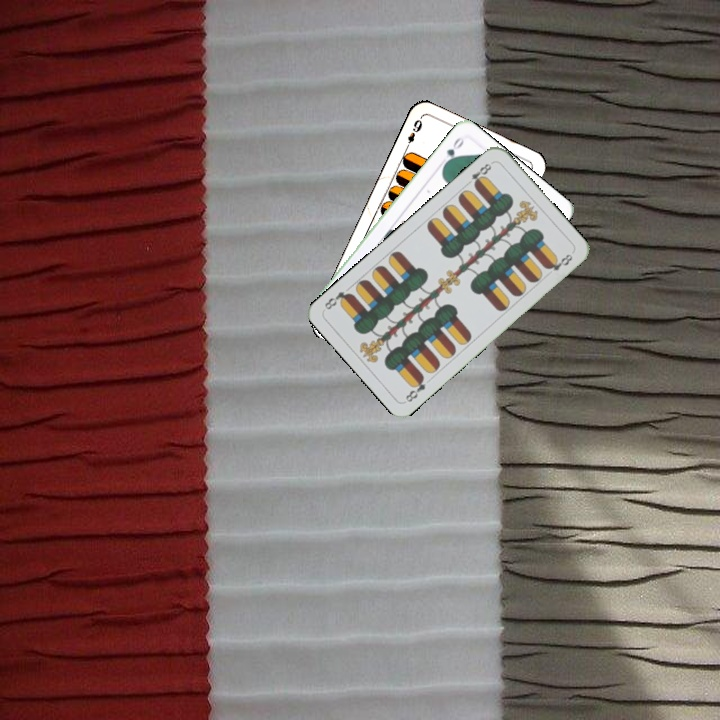E8: (462, 159, 496, 190), (401, 372, 428, 405)
E9: (401, 115, 425, 152)
GO: (439, 133, 466, 169)
